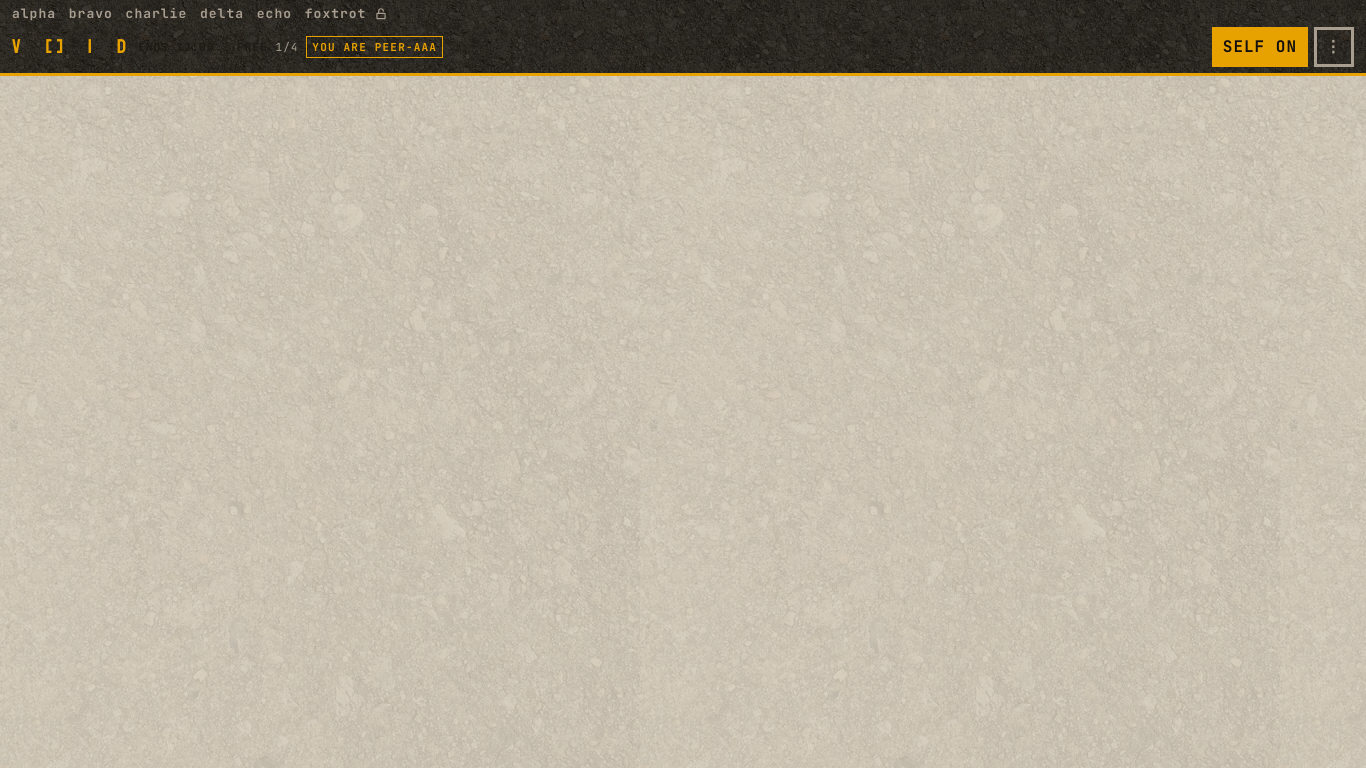
Test: RoomHeaderBar phrase tap-to-mask (#597) › tapping the row masks the phrase behind asterisk blocks and toggles back
Click the button with test id "room-phrase-toggle" at (200, 14), box [12,6,388,23]
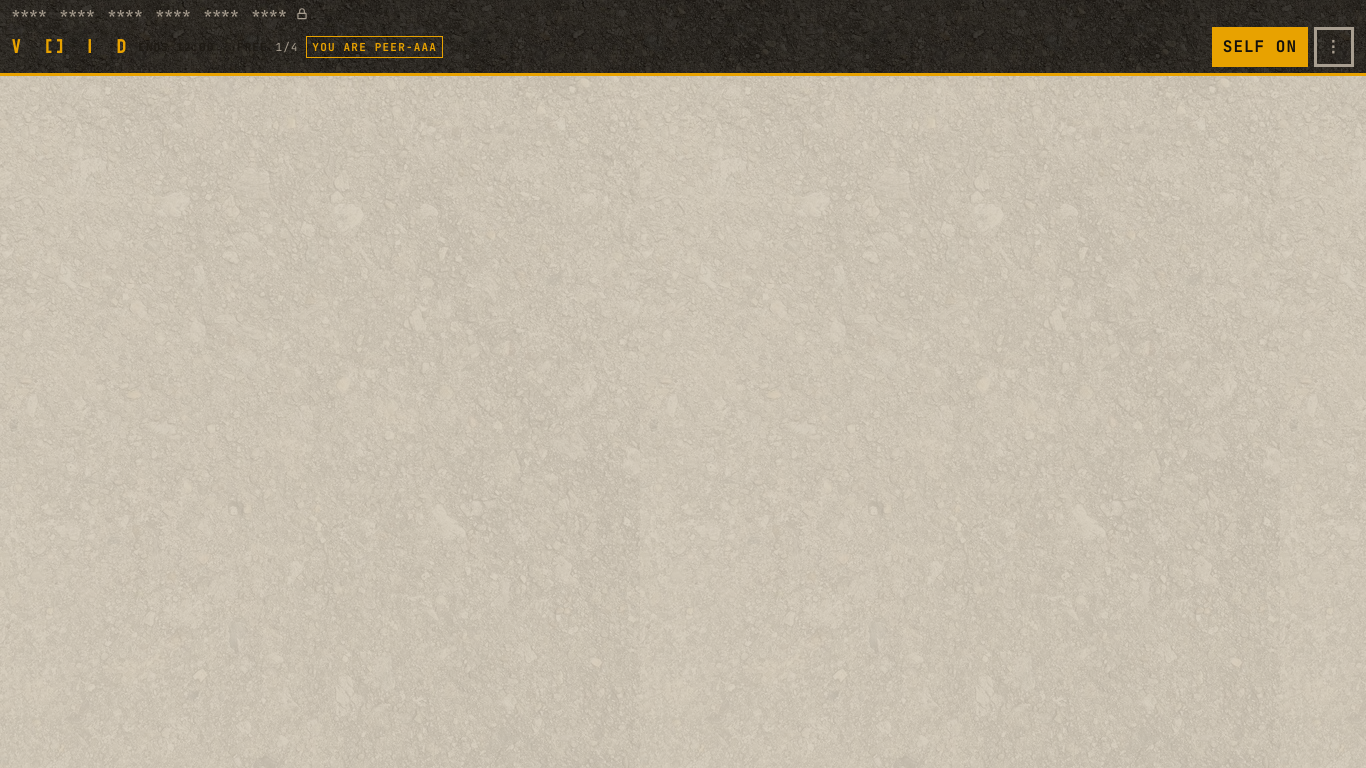
Check: the button with test id "room-phrase-row" no longer shows "alpha bravo charlie"
Check: the text with test id "room-phrase-row" shows "****", box [12,5,287,22]
Click the button with test id "room-phrase-toggle" at (161, 14), box [12,6,309,23]
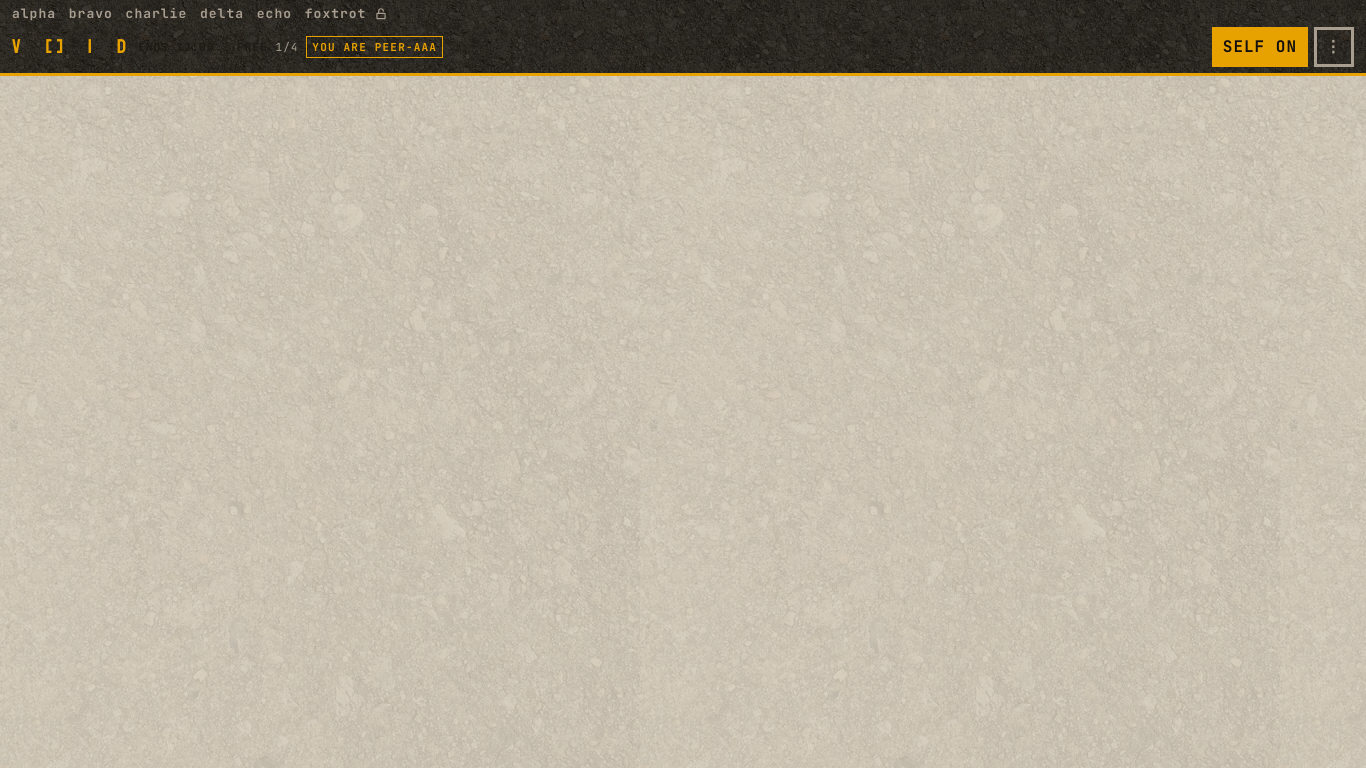
Check: the text with test id "room-phrase-row" reads "alpha bravo charlie delta echo foxtrot", box [12,5,366,22]
